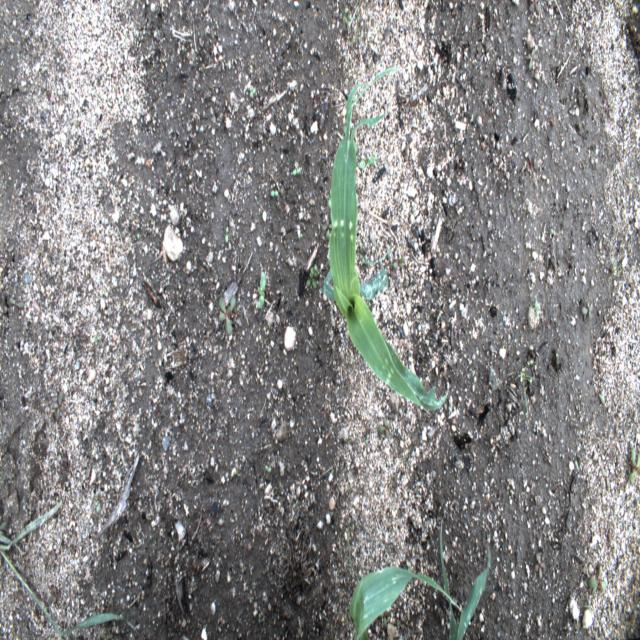crop: (320, 81, 446, 413), (347, 518, 493, 640)
weed: (0, 499, 126, 639), (516, 357, 539, 418), (217, 294, 235, 339), (625, 444, 640, 486), (588, 563, 606, 596), (51, 388, 66, 422), (342, 4, 359, 30), (377, 416, 393, 440), (256, 270, 265, 311), (609, 256, 627, 276), (525, 45, 538, 72), (580, 298, 594, 321), (306, 263, 318, 289), (392, 255, 405, 272), (533, 297, 540, 319), (224, 223, 230, 246), (269, 188, 279, 198), (248, 87, 256, 99), (264, 464, 273, 474), (292, 167, 301, 176), (364, 432, 369, 444)
